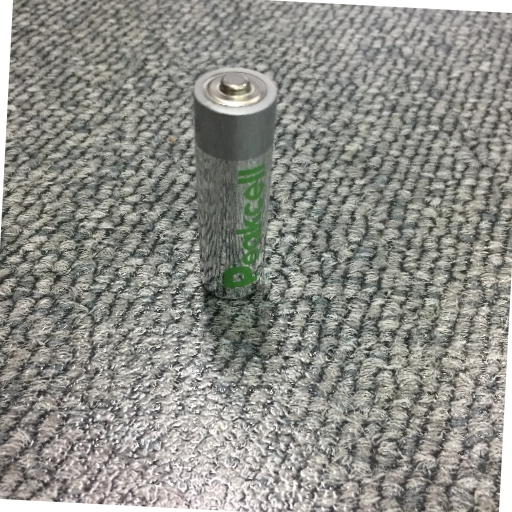Battery_0: (185, 58, 282, 316)
